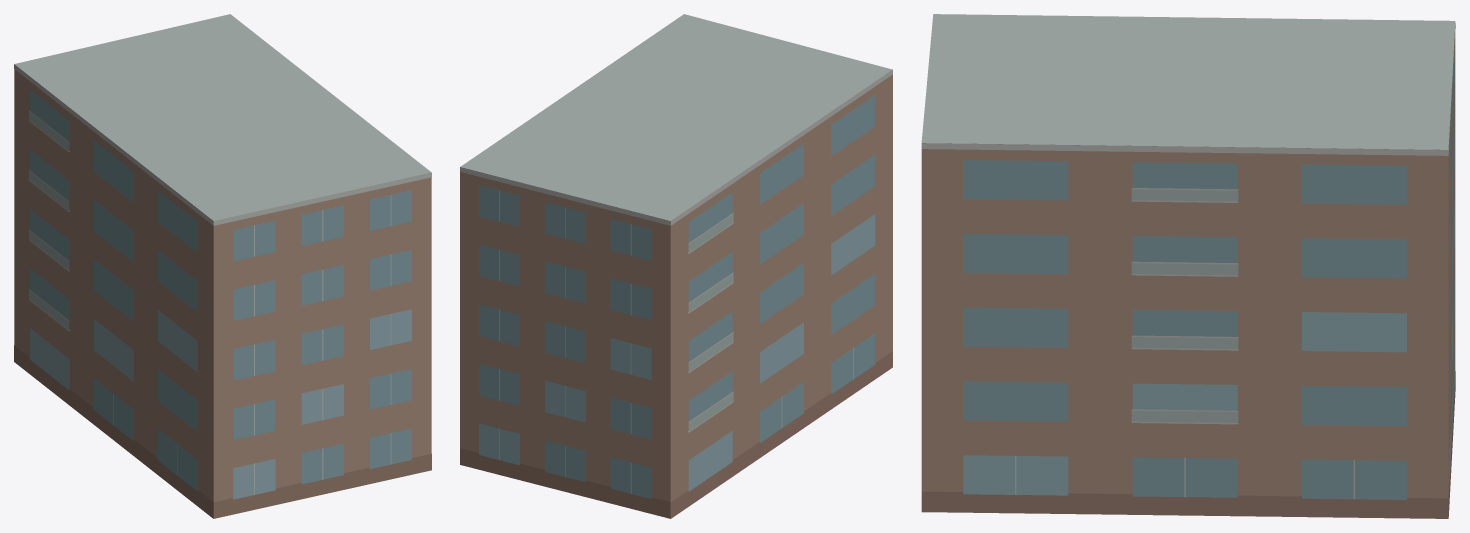
File: survey-upis-32653456.glb
3 renders of one model, left to right at view 1: azimuth 30°, elevation 25°; view 2: azimuth 150°, elevation 25°; view 3: azimuth 270°, elevation 25°, orthographic. The views are drawn at different scales.
Visible parts, largest first — view 1: survey-upis-32653456.tmp; view 2: survey-upis-32653456.tmp; view 3: survey-upis-32653456.tmp.
Boxes of the visible parts, bbox=[...] form: survey-upis-32653456.tmp: bbox=[14, 14, 431, 518]; survey-upis-32653456.tmp: bbox=[460, 14, 892, 518]; survey-upis-32653456.tmp: bbox=[921, 14, 1455, 518].
Size of the model in its own units: 11.86 by 15 by 19.68.
